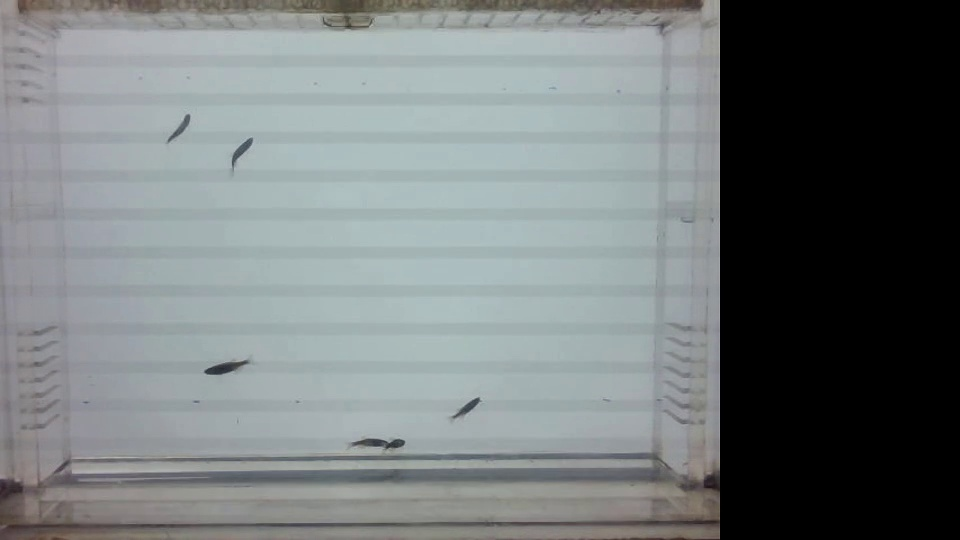fish: (200, 350, 265, 385), (154, 104, 192, 148), (224, 132, 256, 176), (337, 428, 384, 452), (448, 390, 480, 425), (380, 436, 416, 456)
